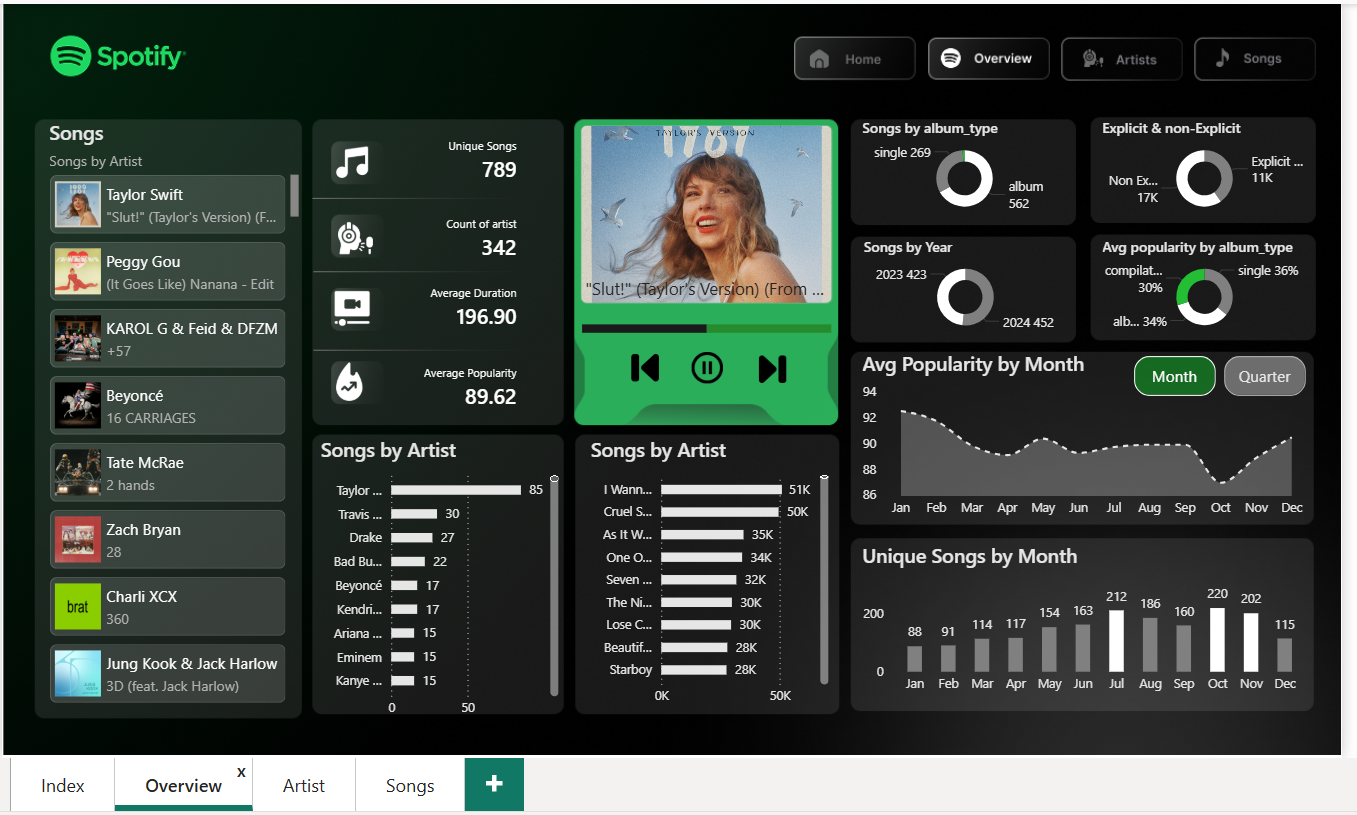

The page's visual inventory and layout, read from the dashboard file:
{"tool":"powerbi","page":{"name":"Overview","canvas":[1280,720],"ordinal":1},"visuals":[{"type":"clusteredBarChart","title":" Songs by Artist","fields":{"Y":["_Measures.Unique Songs"],"Category":["Top-50-World.artist"]},"box":[299.7,412.5,236.9,277.2],"z":0},{"type":"clusteredBarChart","title":" Songs by Artist","fields":{"Category":["Top-50-World.song"],"Y":["Sum(Top-50-World.popularity)"]},"box":[557.6,412.5,236.9,265.9],"z":1000},{"type":"areaChart","title":"Avg Popularity by Month","fields":{"Category":["Top-50-World.Month"],"Y":["_Measures.Average Popularity"]},"box":[817,330.3,433.5,167.6],"z":2000},{"type":"advancedSlicerVisual","fields":{"Values":["Slicer_option.Slicer_option"]},"box":[1076.4,330.3,174,48.3],"z":3000},{"type":"donutChart","title":"Songs by album_type","fields":{"Category":["Top-50-World.album_type"],"Y":["_Measures.Unique Songs"]},"box":[817,109.6,204.7,96.7],"z":4000},{"type":"donutChart","title":"Explicit & non-Explicit","fields":{"Y":["_Measures.Explicit Songs Count","_Measures.Non Explicit Songs Count"]},"box":[1045.8,109.6,204.7,96.7],"z":5000},{"type":"donutChart","title":"Songs by Year","fields":{"Y":["_Measures.Unique Songs"],"Category":["Top-50-World.Year"]},"box":[817.6,222.7,203.6,97],"z":6000},{"type":"donutChart","title":"Avg popularity by album_type","fields":{"Category":["Top-50-World.album_type"],"Y":["_Measures.Average Popularity"]},"box":[1045.8,222.4,204.7,96.7],"z":7000},{"type":"clusteredColumnChart","fields":{"Category":["Top-50-World.Month"],"Y":["_Measures.Unique Songs"]},"box":[817,514,433.5,153.1],"z":8000},{"type":"cardVisual","fields":{"Data":["_Measures.Unique Songs"]},"box":[369,109.8,151.1,79.5],"z":9000},{"type":"cardVisual","fields":{"Data":["Count(Top-50-World.artist)"]},"box":[369,188.5,151.5,69.3],"z":10000},{"type":"cardVisual","fields":{"Data":["_Measures.Average Duration (sec)"]},"box":[369,254.6,151.5,69.3],"z":11000},{"type":"cardVisual","fields":{"Data":["_Measures.Average Popularity"]},"box":[369,330.3,151.5,70.9],"z":12000},{"type":"image","box":[313.4,342,47.7,36.6],"z":13000},{"type":"image","box":[321.3,206.8,33.4,35],"z":14000},{"type":"image","box":[313.4,136.8,41.4,30.2],"z":15000},{"type":"image","box":[313.4,270.4,41.4,39.8],"z":16000},{"type":"advancedSlicerVisual","title":"Songs ","fields":{"Values":["Top-50-World.song"]},"box":[39.8,109.8,248.1,567.8],"z":17000},{"type":"advancedSlicerVisual","title":"Songs ","fields":{"Values":["Top-50-World.song"]},"box":[526.5,109.8,291.1,181.3],"z":18000},{"type":"hundredPercentStackedBarChart","fields":{"Y":["_Measures.Average Popularity","Avg(Top-50-World.popularity)"]},"box":[548.8,270.4,248.1,71.6],"z":19000},{"type":"image","box":[594.9,333,39.8,30.2],"z":20000},{"type":"image","box":[652.9,333,40,30],"z":21000},{"type":"image","box":[715.8,334,39.8,30.2],"z":22000},{"type":"shape","box":[558.3,109.8,225.9,292.7],"z":23000},{"type":"actionButton","box":[754.5,29.2,116.1,39.8],"z":24000},{"type":"actionButton","box":[881.7,29.2,116.1,39.8],"z":25000},{"type":"actionButton","box":[1009,29.2,116.1,39.8],"z":26000},{"type":"actionButton","box":[1137.8,29.2,116.1,39.8],"z":27000}]}

Visuals, with their boxes on the page's 1280x720 design canvas (x1, y1, x2, y2). These are canvas units, not pixel positions in the 1357x815 screenshot, which may show the page scaled, cropped or inside an application window:
" Songs by Artist" clusteredBarChart: <region>300, 412, 537, 690</region>
" Songs by Artist" clusteredBarChart: <region>558, 412, 794, 678</region>
"Avg Popularity by Month" areaChart: <region>817, 330, 1250, 498</region>
advancedSlicerVisual - Slicer_option.Slicer_option: <region>1076, 330, 1250, 379</region>
"Songs by album_type" donutChart: <region>817, 110, 1022, 206</region>
"Explicit & non-Explicit" donutChart: <region>1046, 110, 1250, 206</region>
"Songs by Year" donutChart: <region>818, 223, 1021, 320</region>
"Avg popularity by album_type" donutChart: <region>1046, 222, 1250, 319</region>
clusteredColumnChart - Top-50-World.Month x _Measures.Unique Songs: <region>817, 514, 1250, 667</region>
cardVisual - _Measures.Unique Songs: <region>369, 110, 520, 189</region>
cardVisual - Count(Top-50-World.artist): <region>369, 188, 520, 258</region>
cardVisual - _Measures.Average Duration (sec): <region>369, 255, 520, 324</region>
cardVisual - _Measures.Average Popularity: <region>369, 330, 520, 401</region>
image: <region>313, 342, 361, 379</region>
image: <region>321, 207, 355, 242</region>
image: <region>313, 137, 355, 167</region>
image: <region>313, 270, 355, 310</region>
"Songs " advancedSlicerVisual: <region>40, 110, 288, 678</region>
"Songs " advancedSlicerVisual: <region>526, 110, 818, 291</region>
hundredPercentStackedBarChart - _Measures.Average Popularity x Avg(Top-50-World.popularity): <region>549, 270, 797, 342</region>
image: <region>595, 333, 635, 363</region>
image: <region>653, 333, 693, 363</region>
image: <region>716, 334, 756, 364</region>
shape: <region>558, 110, 784, 402</region>
actionButton: <region>754, 29, 871, 69</region>
actionButton: <region>882, 29, 998, 69</region>
actionButton: <region>1009, 29, 1125, 69</region>
actionButton: <region>1138, 29, 1254, 69</region>
